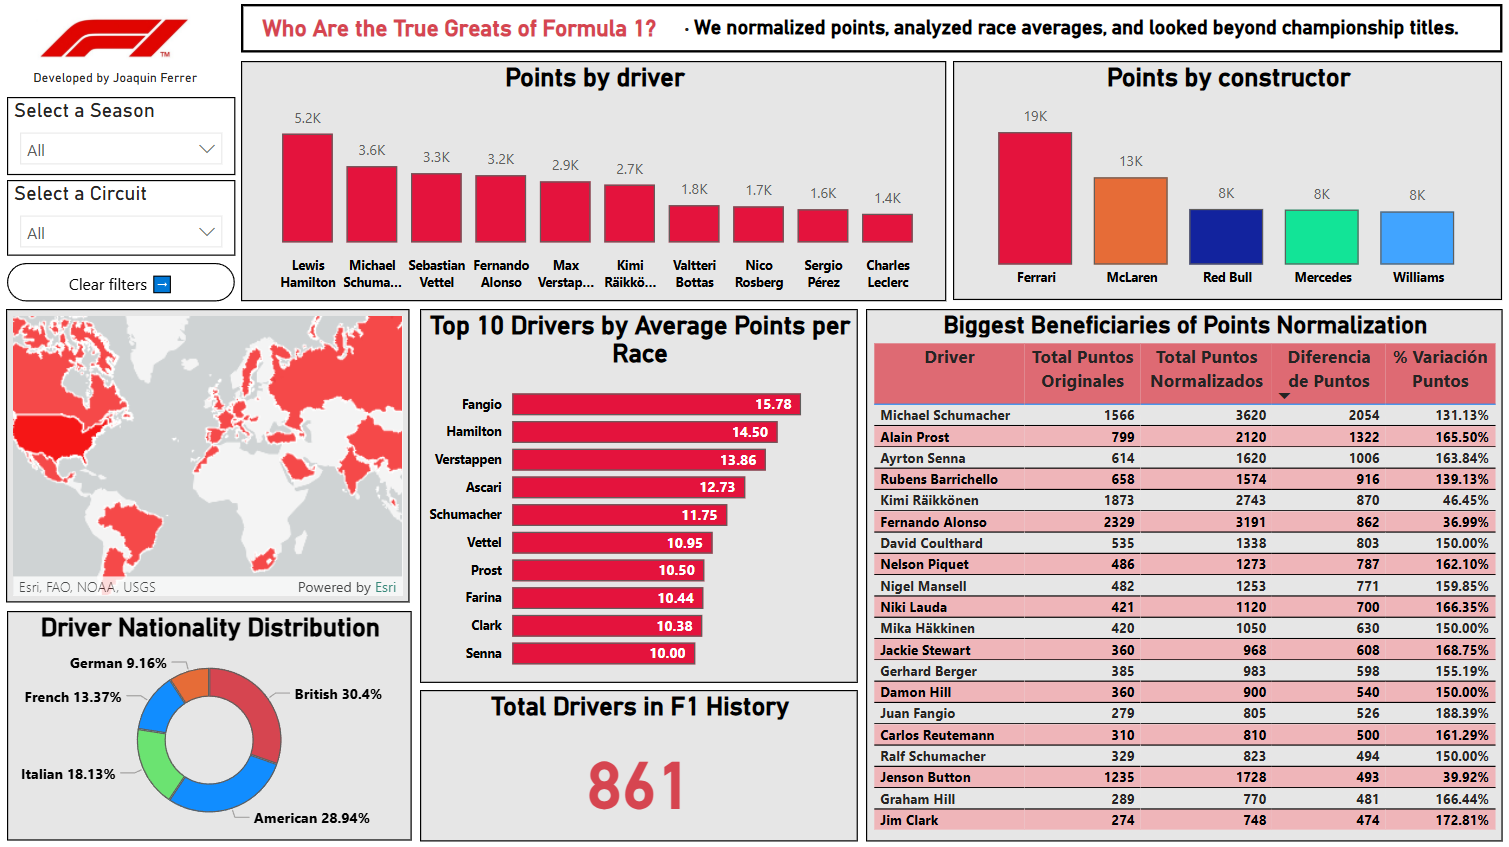

Layout of this report page (visuals, bound fields, positions):
{"tool":"powerbi","page":{"name":"Dashboard definitivo","canvas":[1280,720],"ordinal":0},"visuals":[{"type":"image","box":[0,0,201.7,80.8],"z":0},{"type":"slicer","title":"Select a Season","fields":{"Values":["races.year"]},"box":[9.2,85.8,192.5,65.8],"z":1000},{"type":"slicer","title":"Select a Circuit","fields":{"Values":["circuits.location"]},"box":[9.2,156.7,192.5,64.2],"z":2000},{"type":"columnChart","title":"Points by driver","fields":{"Category":["drivers.complete_name"],"Y":["results.Total Puntos Normalizados"]},"box":[207.2,55.4,596.2,203.3],"z":3000},{"type":"columnChart","title":"Points by constructor","fields":{"Category":["constructors.name"],"Y":["results.PuntosNormalizados"]},"box":[809,56,464,202],"z":4000},{"type":"esriVisual","fields":{"Location":["circuits.country"]},"box":[8.8,265.3,341.2,247.6],"z":5000},{"type":"tableEx","title":"Biggest Beneficiaries of Points Normalization","fields":{"Values":["drivers.complete_name","results.Total Puntos Originales","results.Total Puntos Normalizados","results.Diferencia de Puntos","results.% Variación Puntos"]},"box":[735,265,538,450],"z":6000},{"type":"clusteredBarChart","title":"Top 10 Drivers by Average Points per Race","fields":{"Category":["drivers.surname"],"Y":["results.Promedio Puntos Normalizados Top10"]},"box":[358,265,370,316],"z":7000},{"type":"card","title":"Total Drivers in F1 History","fields":{"Values":["drivers.Total Pilotos"]},"box":[358,587,370,128],"z":8000},{"type":"donutChart","title":"Driver Nationality Distribution","fields":{"Y":["drivers.Cantidad Pilotos"],"Category":["drivers.nationality"]},"box":[9.2,520.8,341.7,194.2],"z":9000},{"type":"actionButton","box":[9.2,226.7,192.5,32.5],"z":10000},{"type":"shape","box":[207,8,1066,41],"z":11000},{"type":"textbox","box":[214,12,356,34],"z":12000},{"type":"textbox","box":[560.3,11.8,687,33.8],"z":13000},{"type":"textbox","box":[16.2,55,169.2,30.8],"z":14000}]}

Visuals, with their boxes in screenshot pixels (x1, y1, x2, y2), scaled from the page's 1280x720 canvas onto the 1509x847 screenshot:
image: Rect(0, 0, 238, 95)
"Select a Season" slicer: Rect(11, 101, 238, 178)
"Select a Circuit" slicer: Rect(11, 184, 238, 260)
"Points by driver" columnChart: Rect(244, 65, 947, 304)
"Points by constructor" columnChart: Rect(954, 66, 1501, 304)
esriVisual - circuits.country: Rect(10, 312, 413, 603)
"Biggest Beneficiaries of Points Normalization" tableEx: Rect(866, 312, 1501, 841)
"Top 10 Drivers by Average Points per Race" clusteredBarChart: Rect(422, 312, 858, 683)
"Total Drivers in F1 History" card: Rect(422, 691, 858, 841)
"Driver Nationality Distribution" donutChart: Rect(11, 613, 414, 841)
actionButton: Rect(11, 267, 238, 305)
shape: Rect(244, 9, 1501, 58)
textbox: Rect(252, 14, 672, 54)
textbox: Rect(661, 14, 1470, 54)
textbox: Rect(19, 65, 219, 101)
